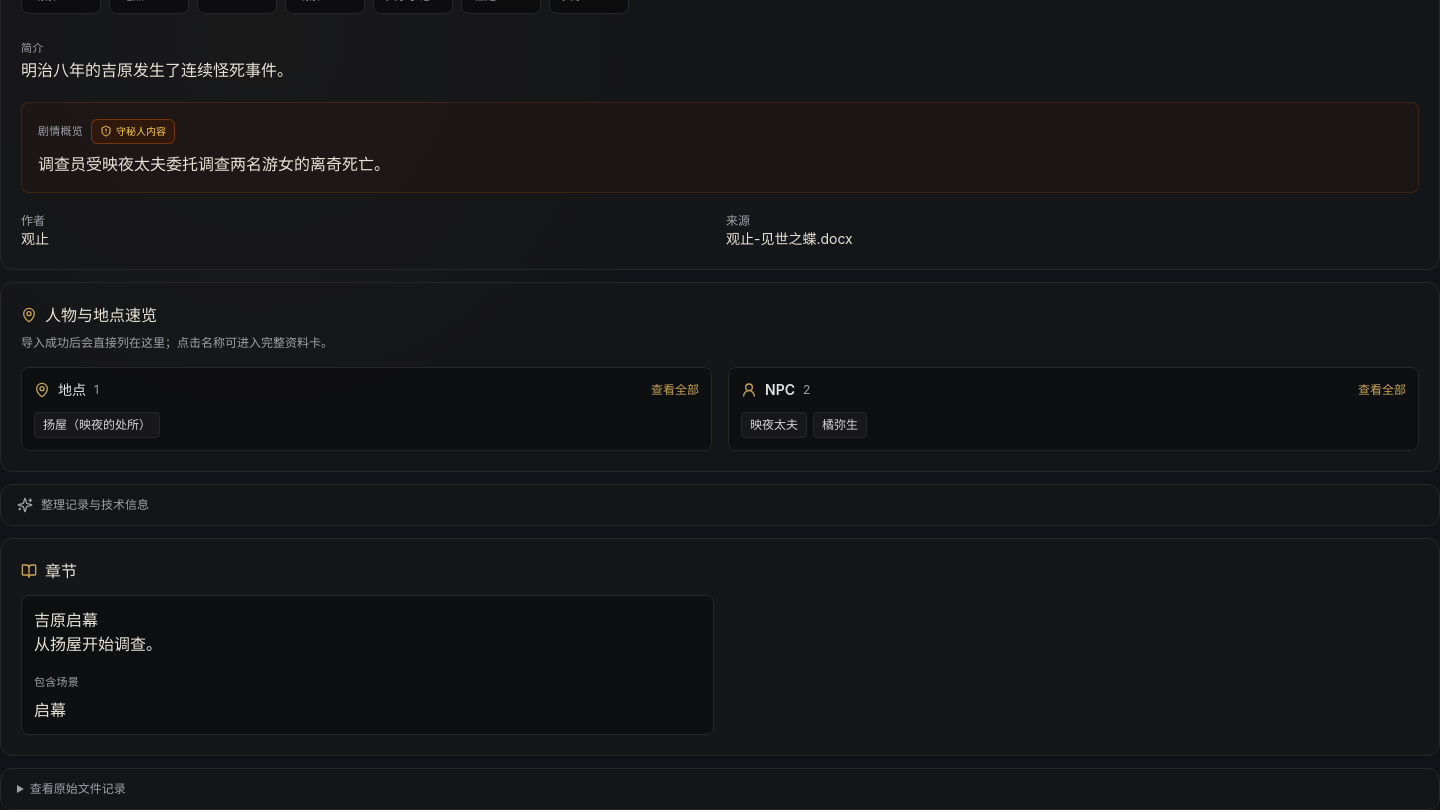
ModuleEntityBrowser › switches between NPC and location cards and shows the extracted sample entities
(page scrolled)
Check: the button "扬屋（映夜的处所）" is shown, box [34,412,160,438]
Click the button "映夜太夫": click(774, 424) [741,412,807,438]
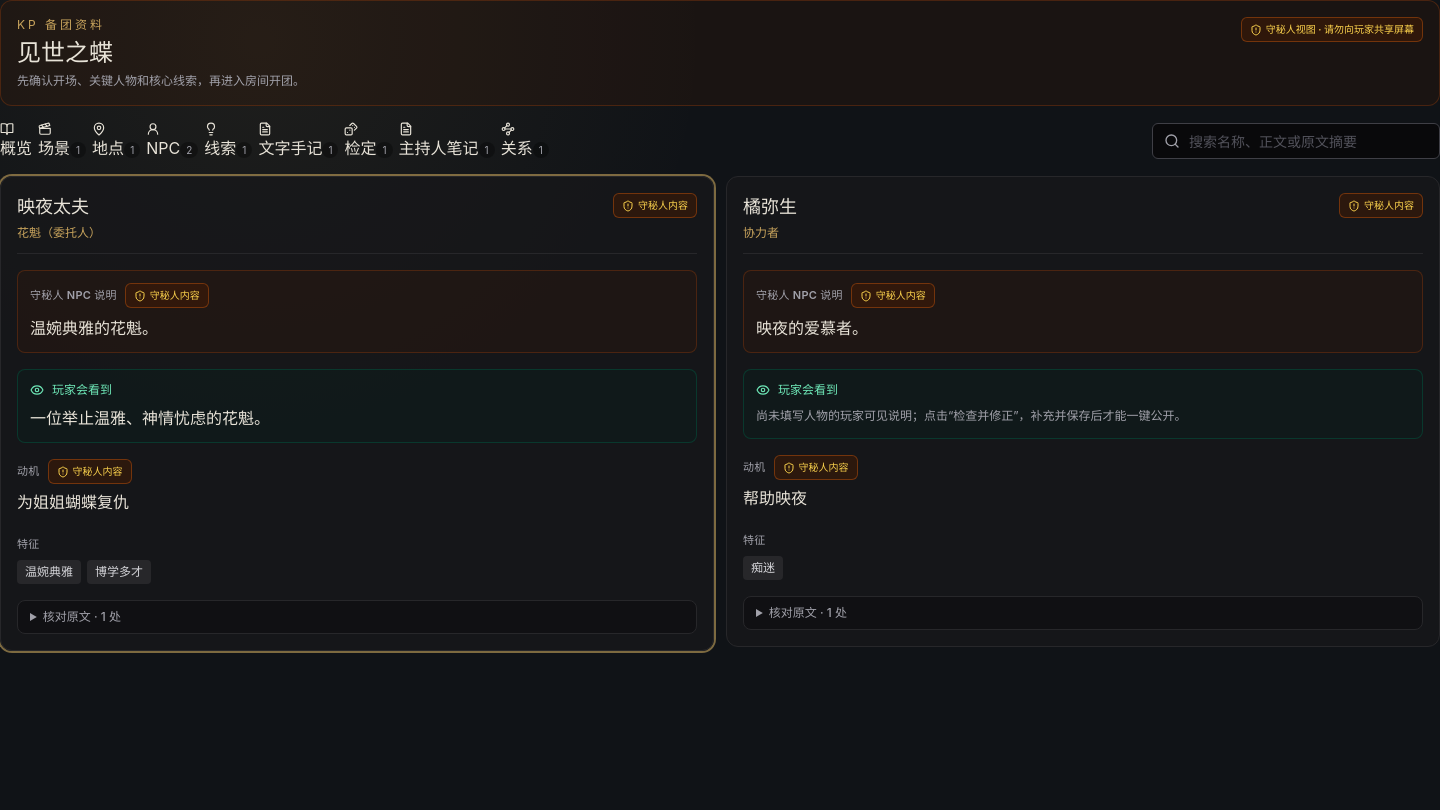
Check: the text "花魁（委托人）" is shown, box [17,225,101,241]
Check: the text "为姐姐蝴蝶复仇" is shown, box [17,492,129,512]
Check: the text "一位举止温雅、神情忧虑的花魁。" is shown, box [30,408,270,428]
Click the tab "地点1": click(116, 141) [92,122,140,160]
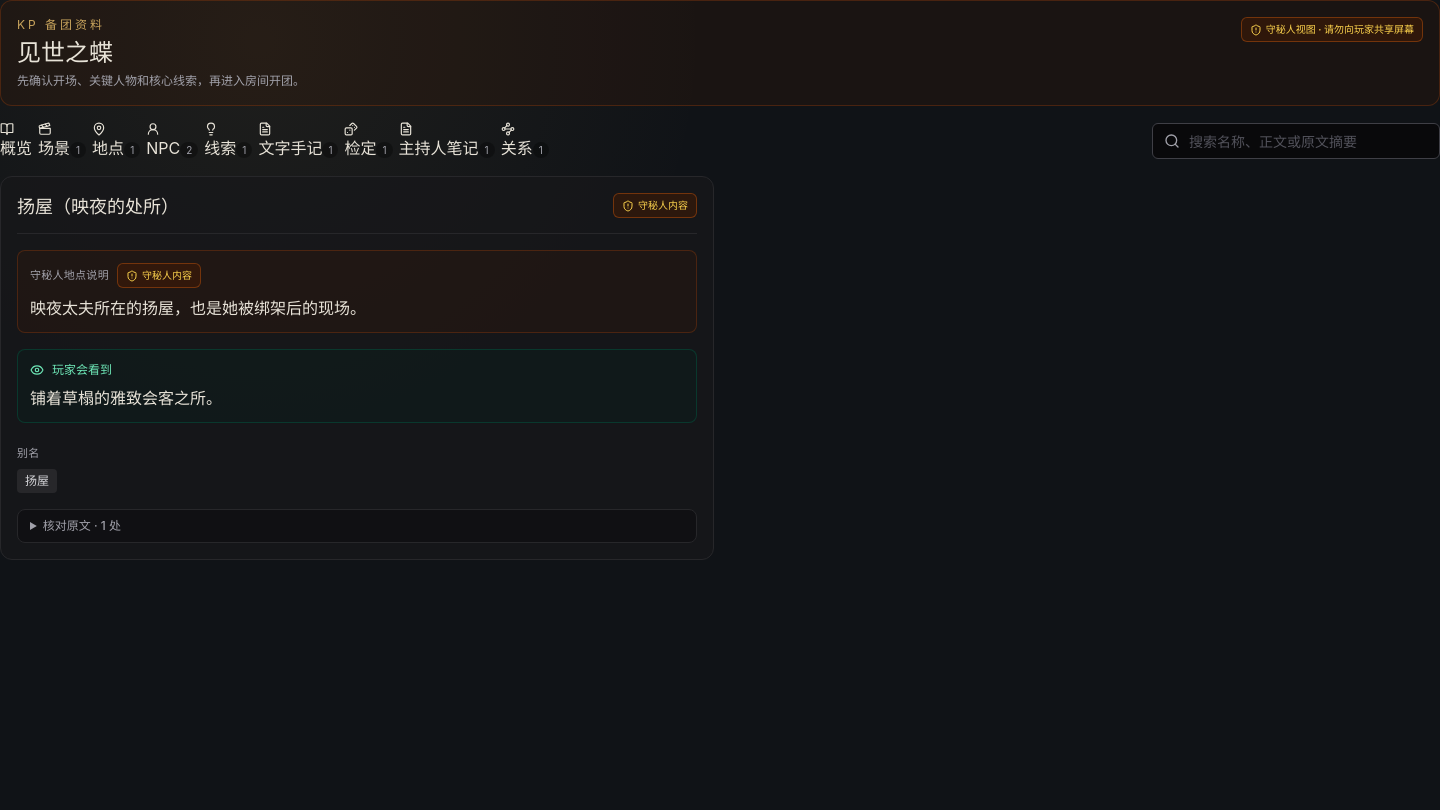
Check: the heading "扬屋（映夜的处所）" is shown, box [17,193,179,221]
Check: the text "映夜太夫所在的扬屋，也是她被绑架后的现场。" is shown, box [30,298,366,318]
Check: the text "铺着草榻的雅致会客之所。" is shown, box [30,388,222,408]
